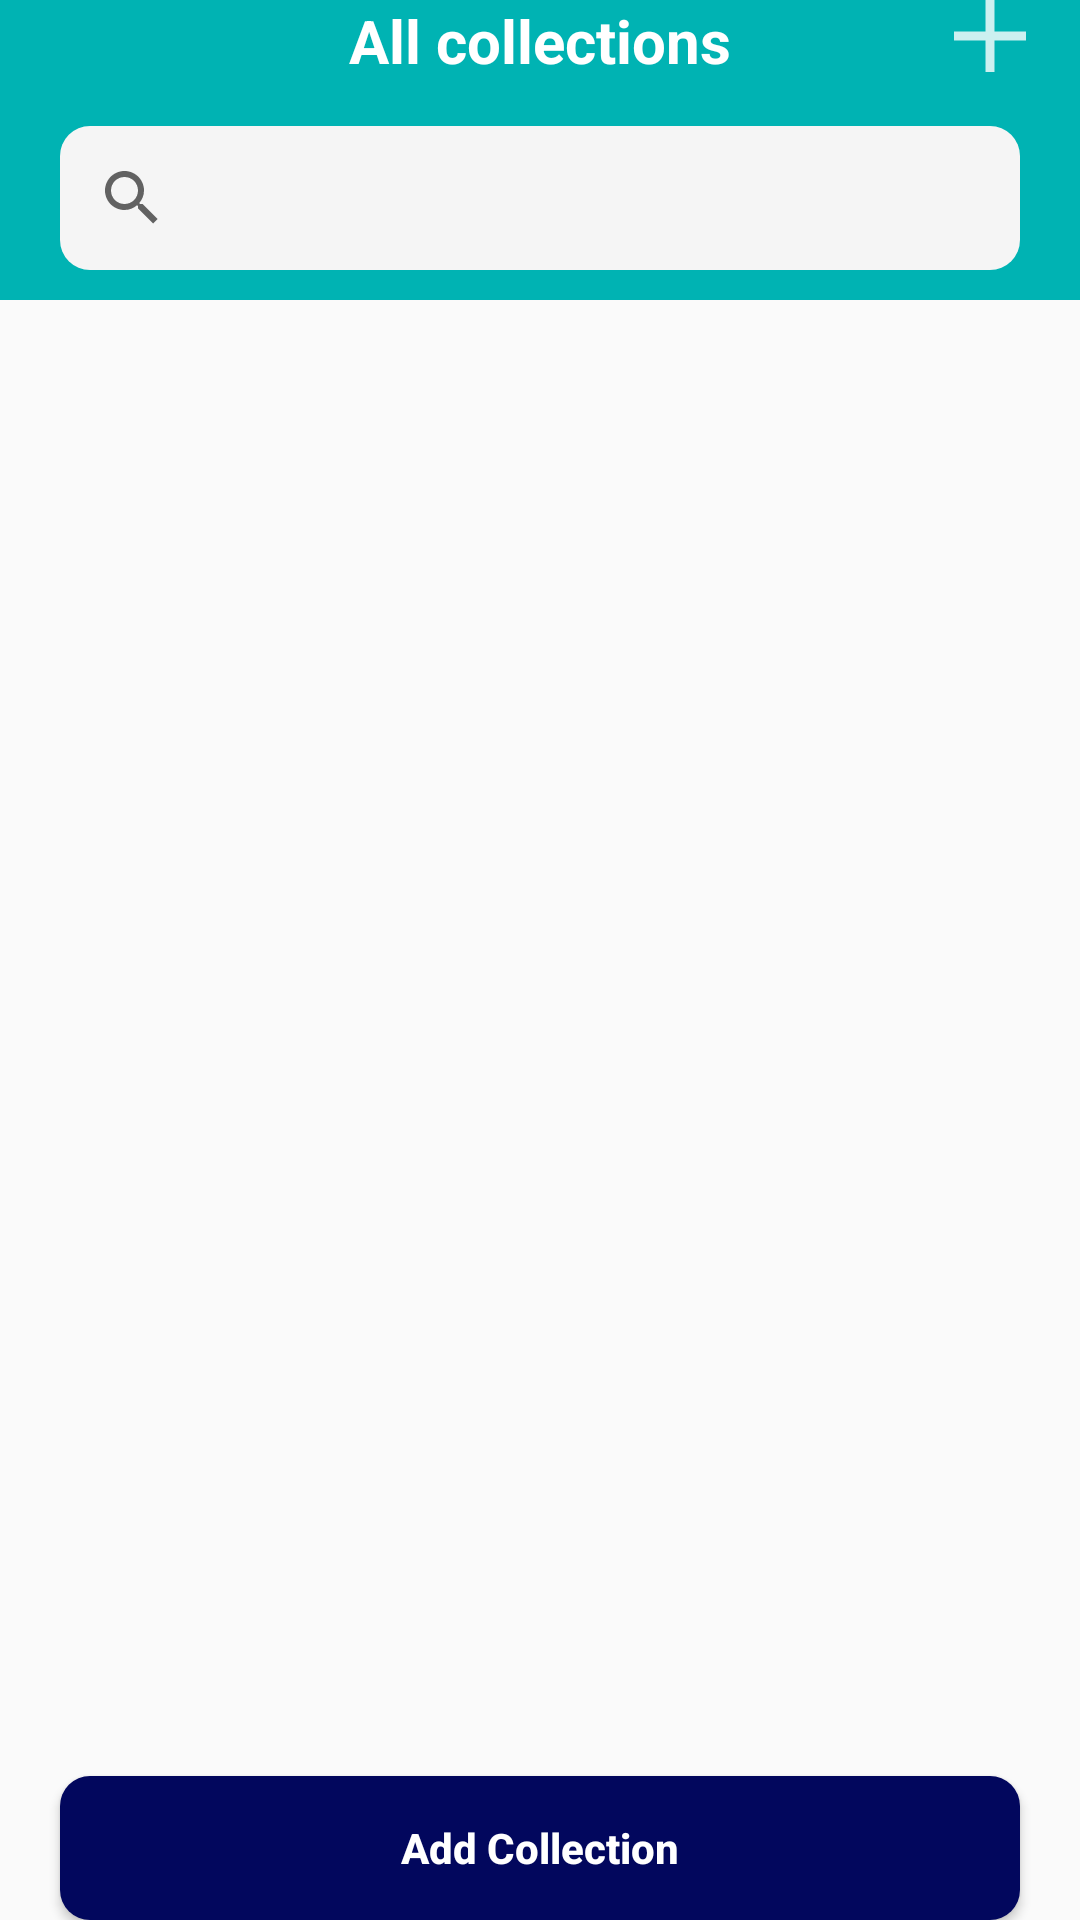

Icons on this 1080px×1920px Android screen, each with its box as {"x1": x1, "y1": y1, "x2": x2, "y2": y2}:
plus: {"x1": 954, "y1": 0, "x2": 1026, "y2": 72}
